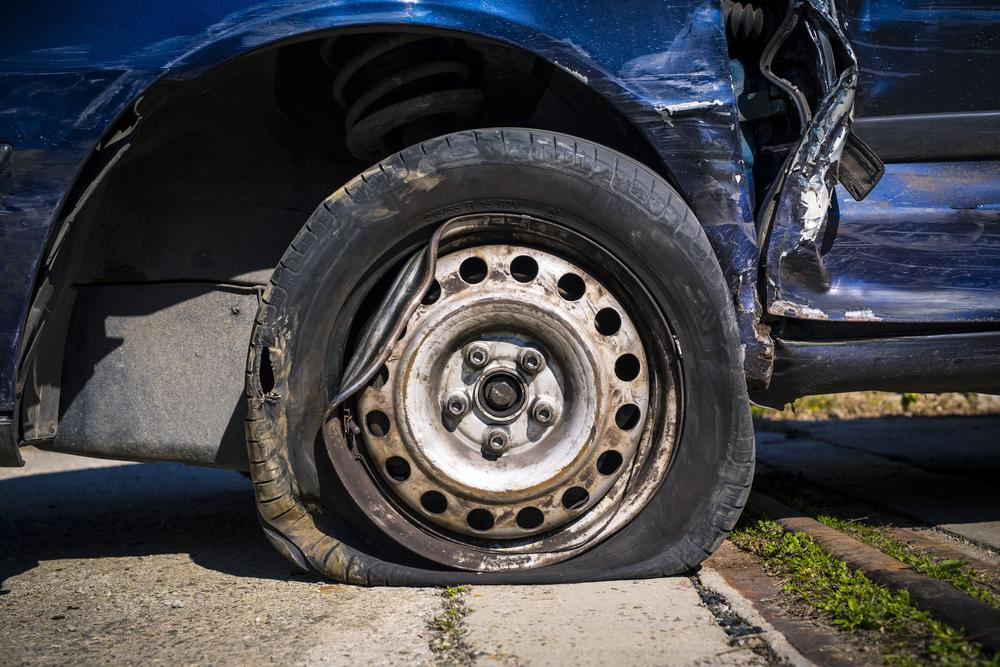tire flat: (244, 125, 757, 584)
